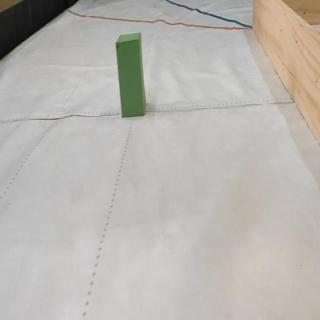greenbox: (117, 34, 146, 117)
